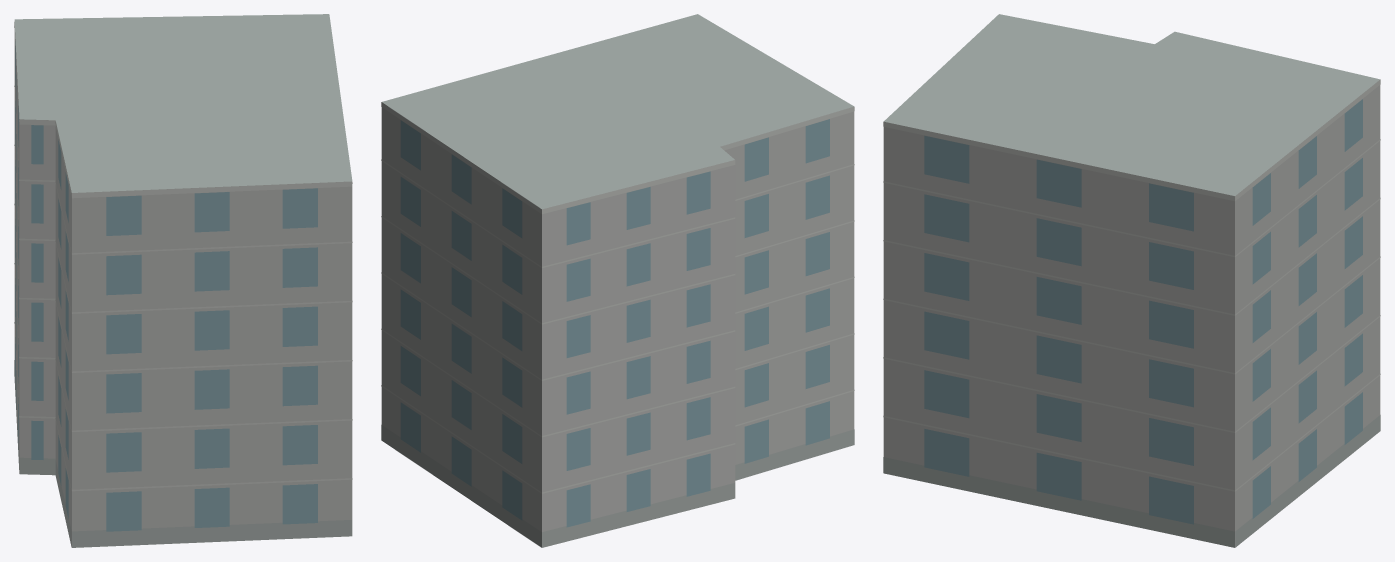
Rendered from survey-upis-32768997.glb.
3 views of the same model, side by side, from view 1: azimuth 30°, elevation 25°; view 2: azimuth 150°, elevation 25°; view 3: azimuth 270°, elevation 25° (orthographic). The views are drawn at different scales.
Visible parts, largest first — view 1: survey-upis-32768997.tmp; view 2: survey-upis-32768997.tmp; view 3: survey-upis-32768997.tmp.
Boxes of the visible parts, x1,y1,x2,y2 form: survey-upis-32768997.tmp: (14,14,352,547); survey-upis-32768997.tmp: (381,14,854,547); survey-upis-32768997.tmp: (883,14,1380,547).
Size of the model in its own units: 18.57 by 16.7 by 21.41.
